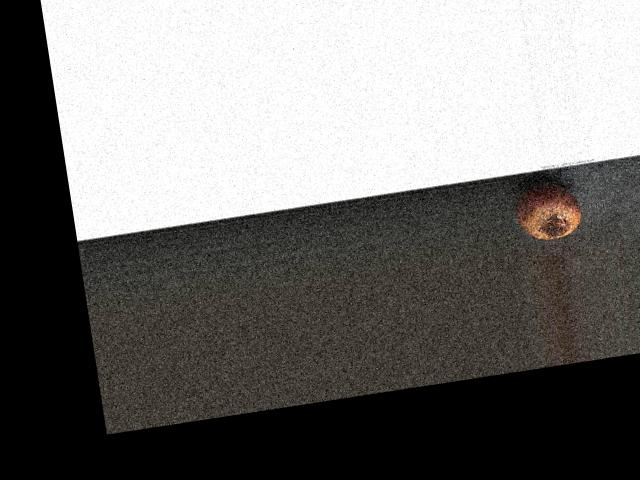beet: (510, 178, 583, 243)
